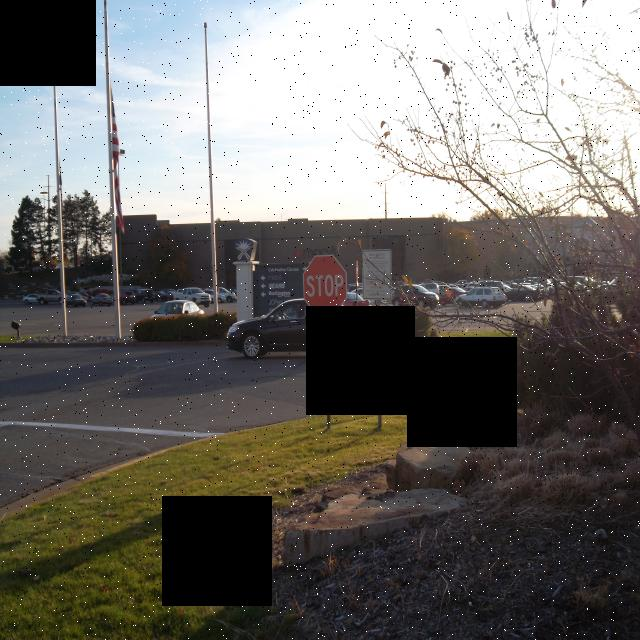regulatory: (366, 311, 391, 360)
stop: (302, 254, 348, 318)
